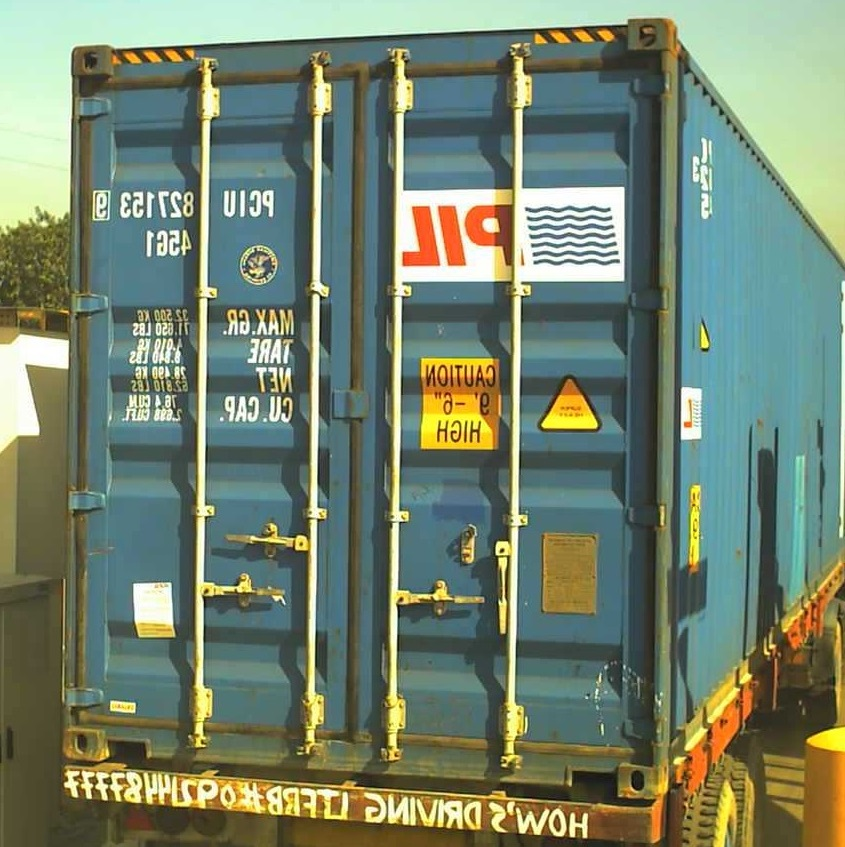container_door: (68, 15, 673, 809)
